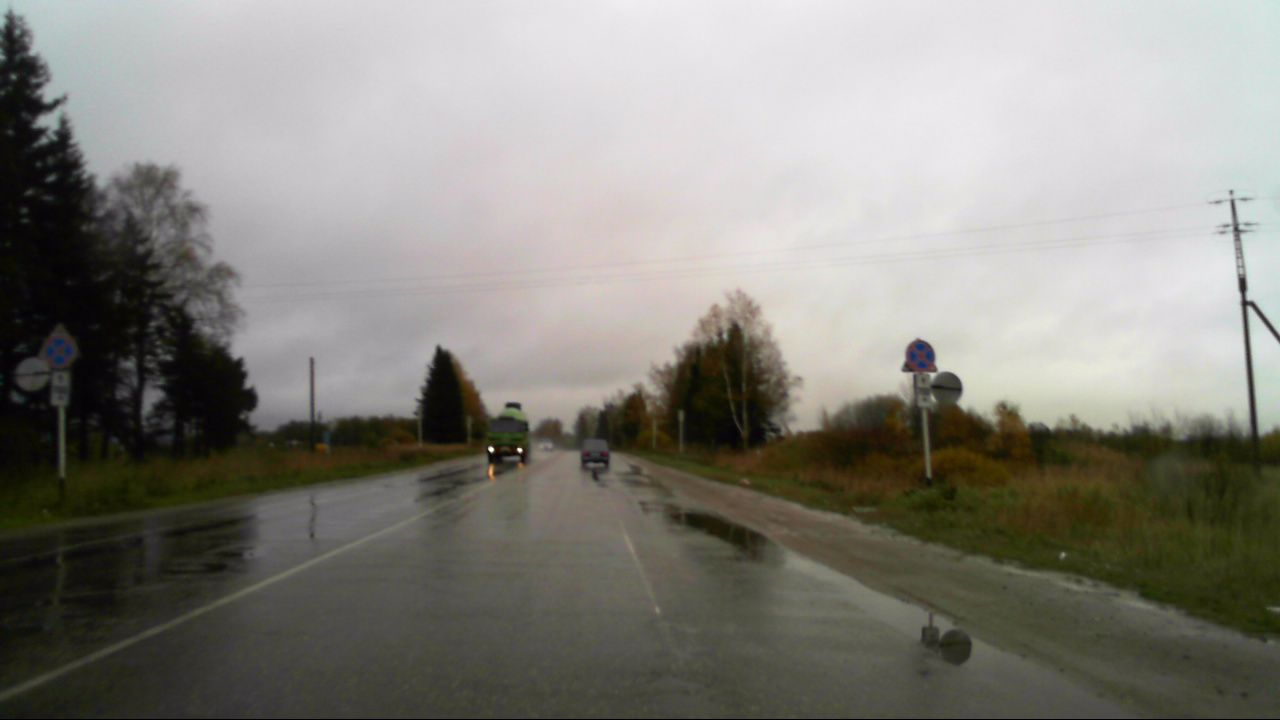No Parking: (41, 331, 78, 369)
